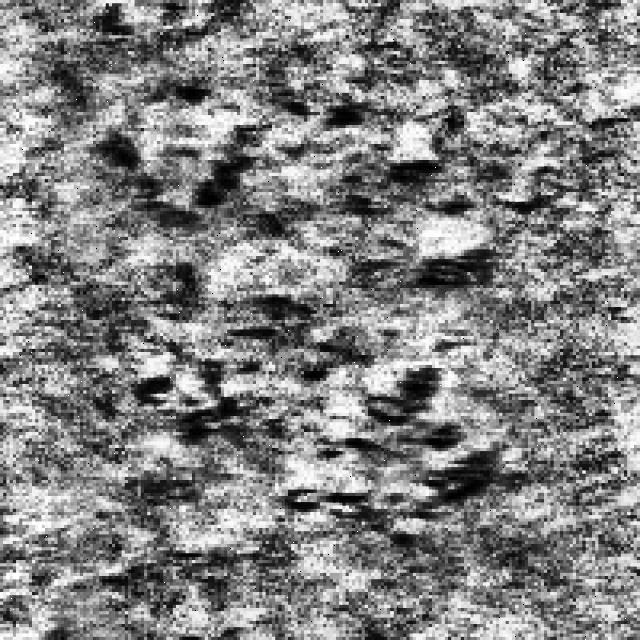Crazing: (100, 332, 518, 550), (227, 92, 522, 372), (77, 109, 288, 432)
